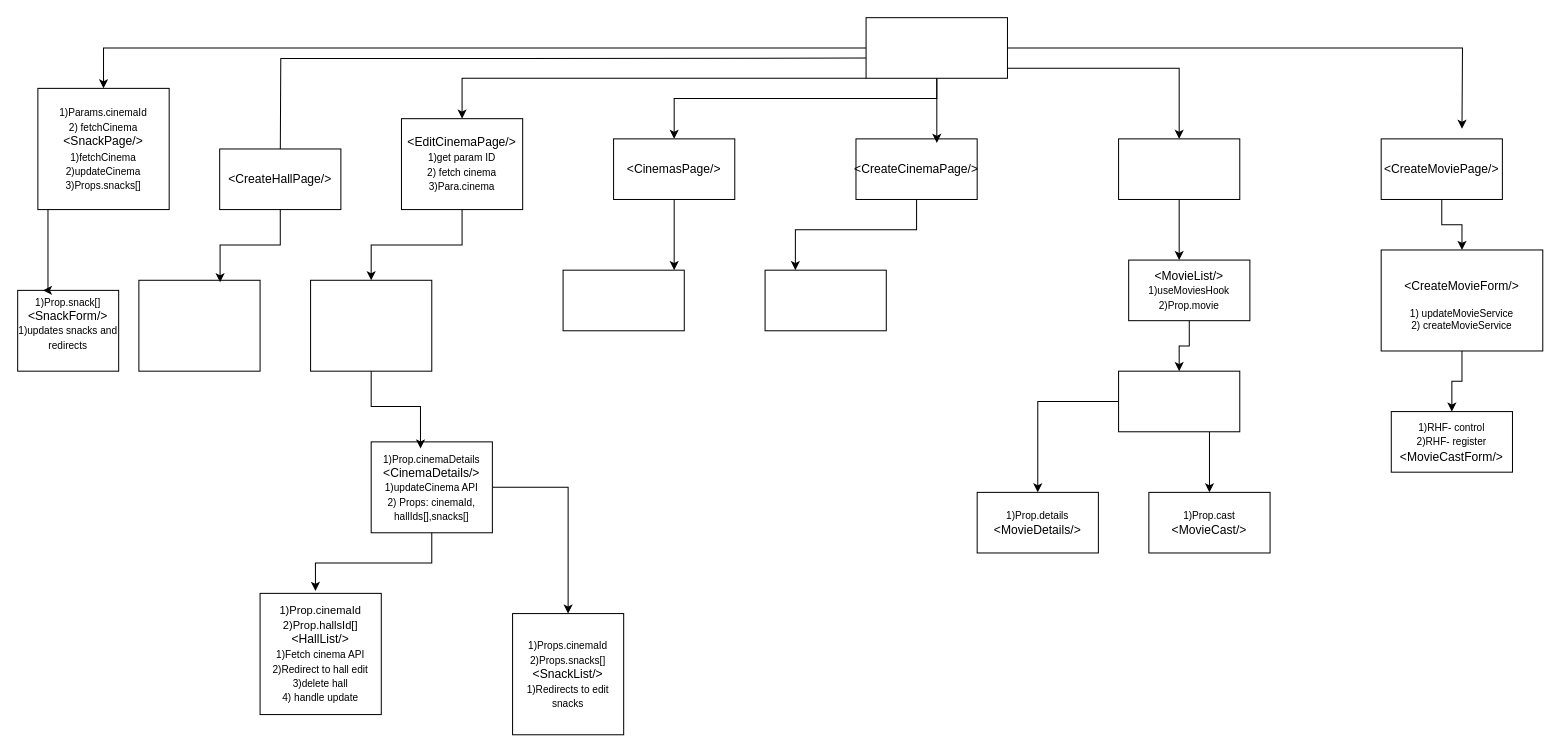
This 1560x752 diagram has some shape labels left out. Each missing label, with the centre of its shape:
1)Param.cinema <CinemaCard/> 1)heletes request to API 2)Prop.cinemaDetails: (x=371, y=325)
1)Prop.movie <MovieCard/>: (x=1179, y=401)
<App/>: (x=936, y=47)
<CinemaList/> 1)fetchCinemaData: (x=623, y=300)
<CreateCinema/> 1)sends data to API: (x=825, y=300)
<HallForm/> *break it down: (x=199, y=325)
<MoviePage/>: (x=1179, y=168)
